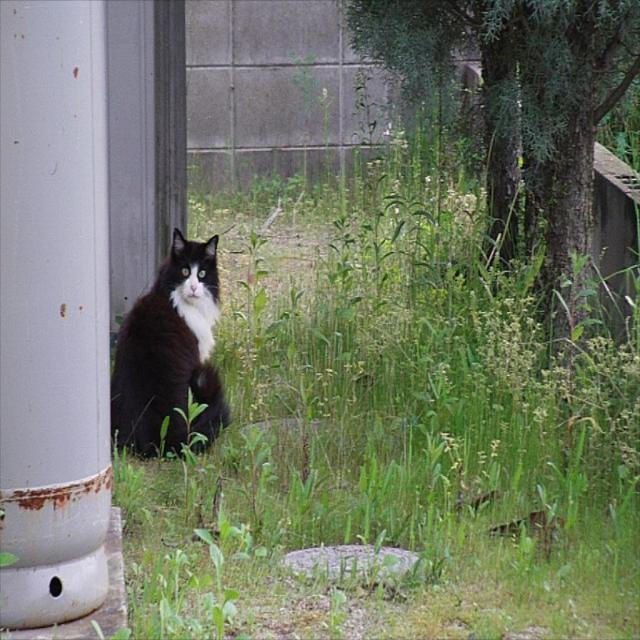Cat: (110, 229, 234, 456)
